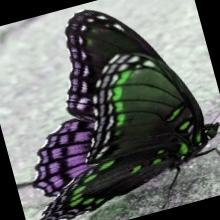butterfly: (33, 10, 218, 220)
